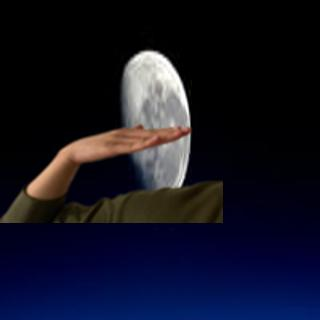WAIT: (62, 118, 196, 166)
